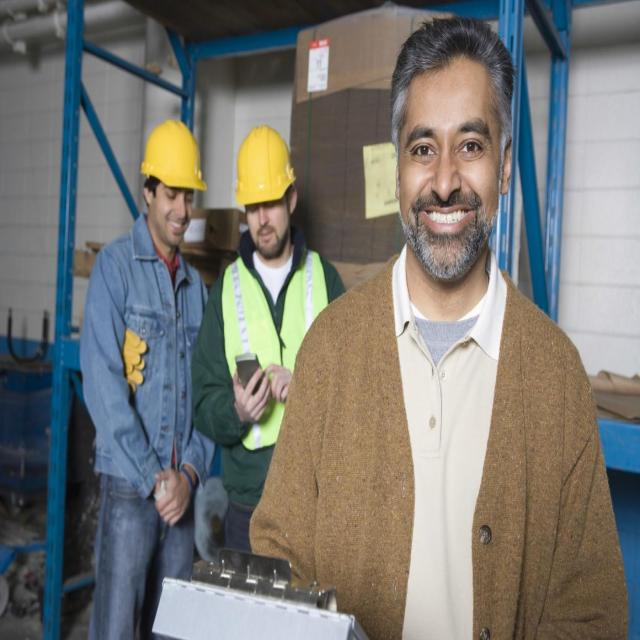Reflective-Jacket: (217, 242, 332, 452)
Safety-Helmet: (138, 111, 209, 196), (232, 117, 296, 209)
